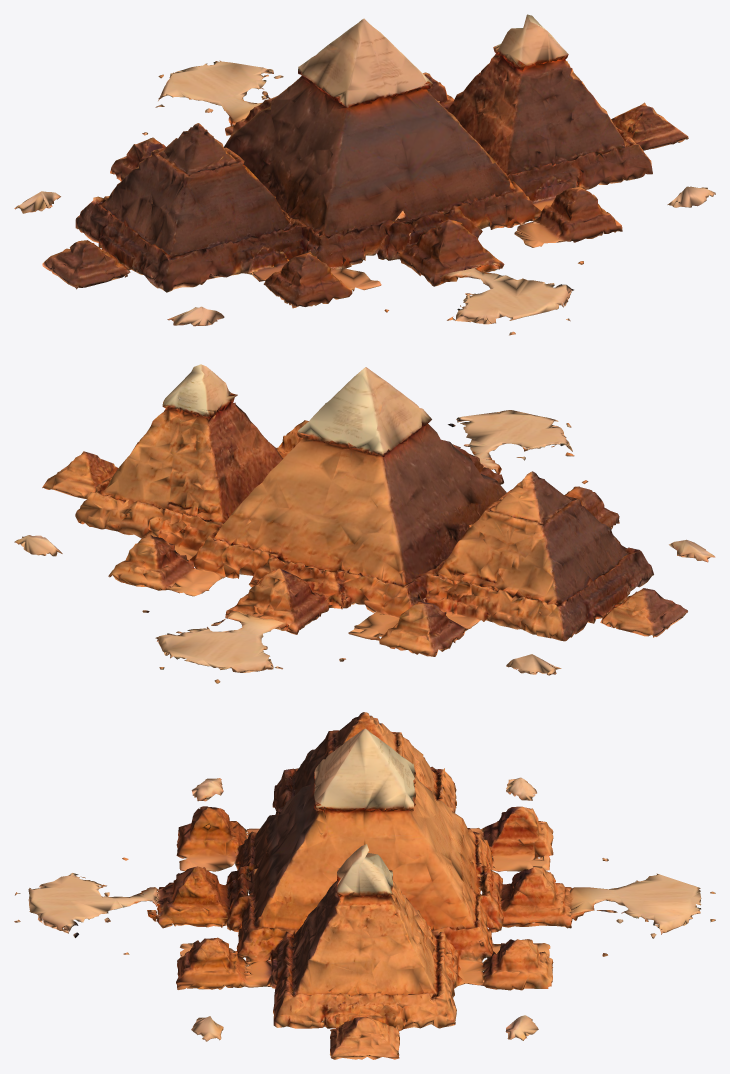
Rendered from wonder_giza.glb.
3 views of the same model, one above another, from view 1: azimuth 30°, elevation 25°; view 2: azimuth 150°, elevation 25°; view 3: azimuth 270°, elevation 25° (orthographic).
Visible parts, largest first — view 1: wonder_giza; view 2: wonder_giza; view 3: wonder_giza.
Boxes of the visible parts, x1,y1,x2,y2 form: wonder_giza: [14, 14, 715, 335]; wonder_giza: [14, 364, 715, 683]; wonder_giza: [14, 712, 715, 1059].
Size of the model in its own units: 1.9 by 0.5456 by 1.9.
1 material, 1 textured.
